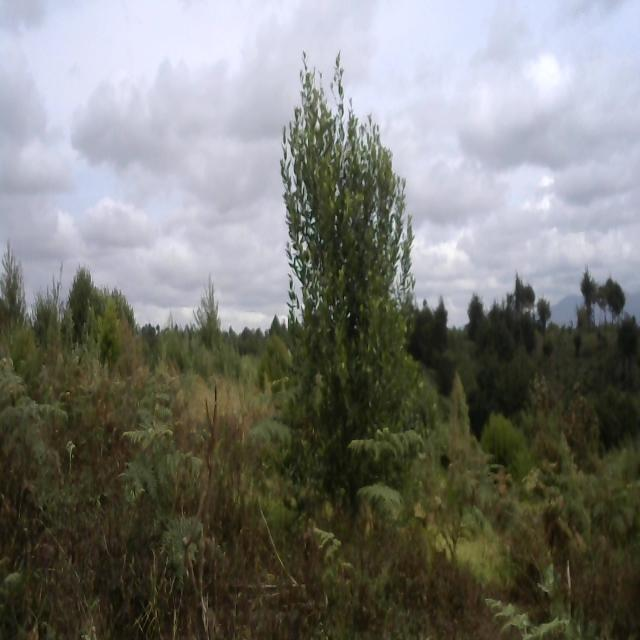Juniperus procesera: (66, 256, 96, 326), (512, 268, 536, 325), (605, 268, 625, 324), (580, 265, 598, 320), (466, 289, 484, 328)
Olea europea -africana-: (272, 52, 431, 500)
